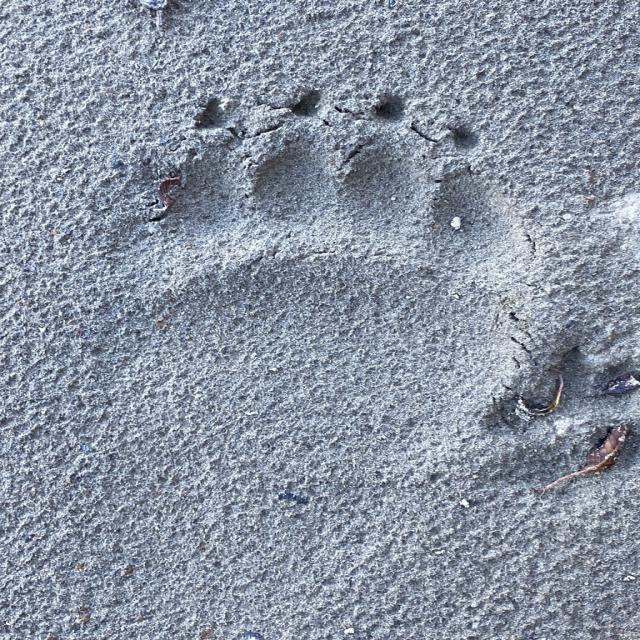bear: (130, 102, 518, 464)
